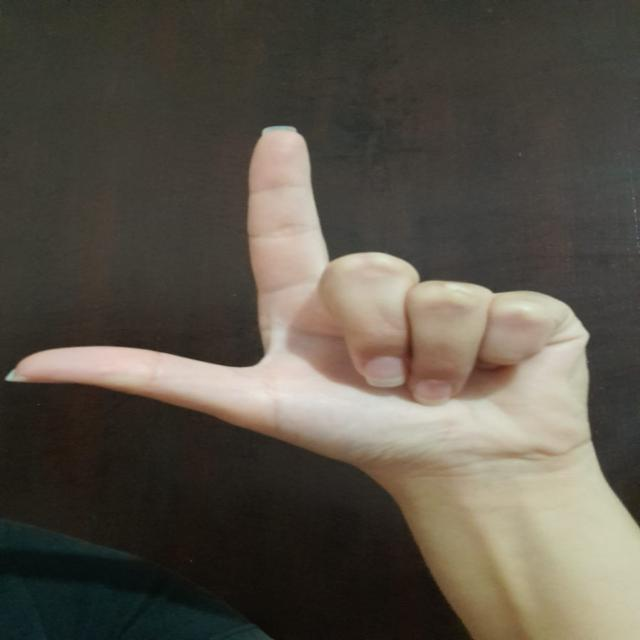L: (11, 118, 619, 464)
